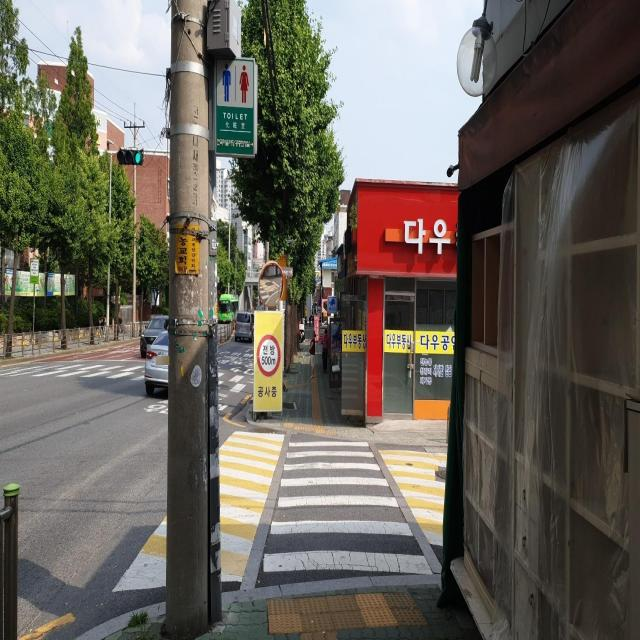횡단보도: (262, 438, 434, 578), (0, 354, 144, 384)
